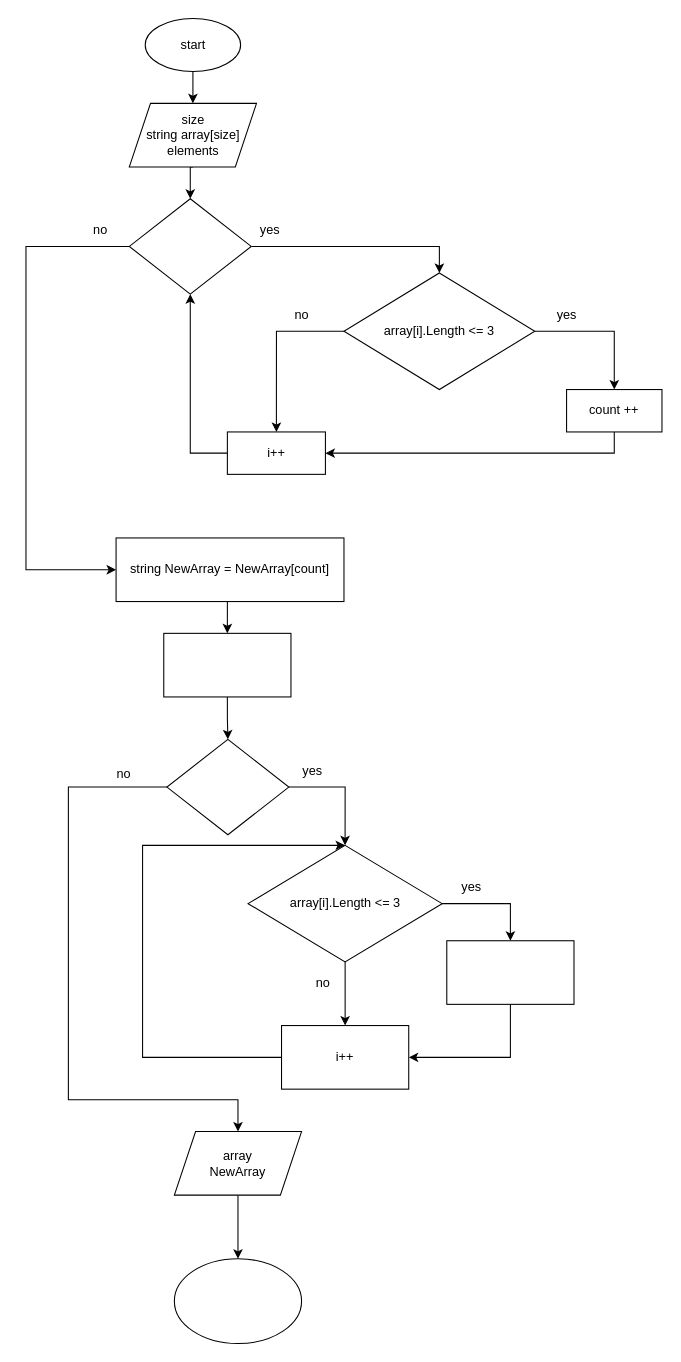
Some shapes in this 681 by 1362 pixel diagram are drawn without their labels. The centre of each missing label's shape, as x and y in pixels:
"end" goes at pixel 237 1301.
"i =0 j=0" goes at pixel 227 664.
"i<size" goes at pixel 227 786.
"i=0 i<size" goes at pixel 189 246.
"NewArray[j] = array[i] j++" goes at pixel 510 972.
